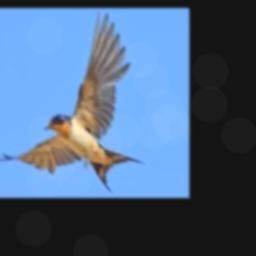Swallow: (0, 12, 146, 194)
